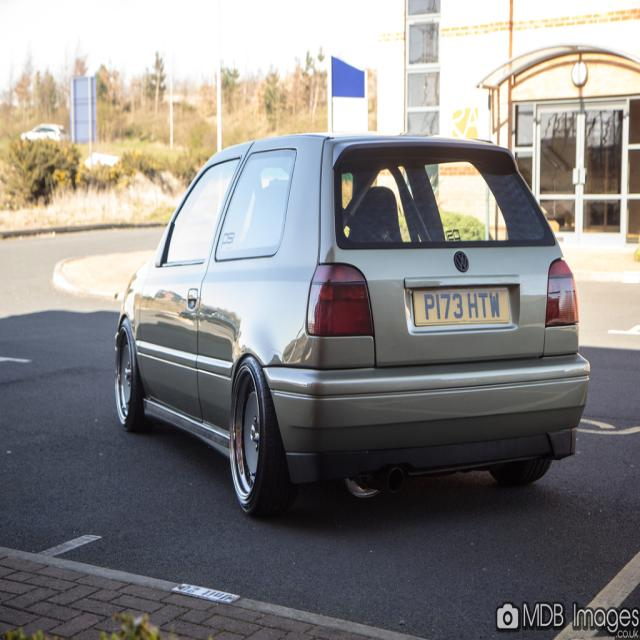car: (114, 130, 590, 518)
